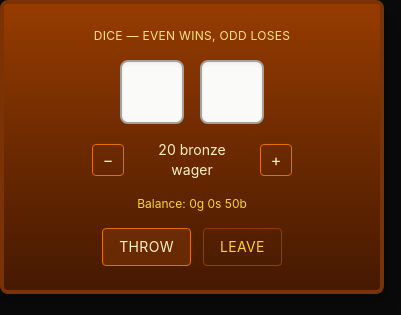
Test: DiceGame › plays the win sound on a winning throw
Click the button "Throw": click(147, 247) x1=102 y1=228 x2=191 y2=266
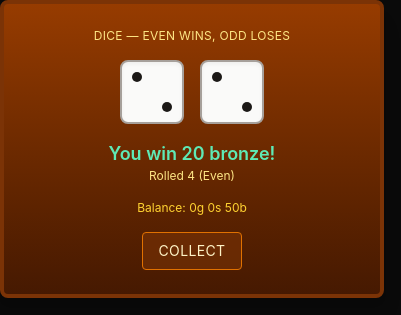
Expected: the text "You win 20 bronze!" is shown, x1=109 y1=140 x2=275 y2=168
